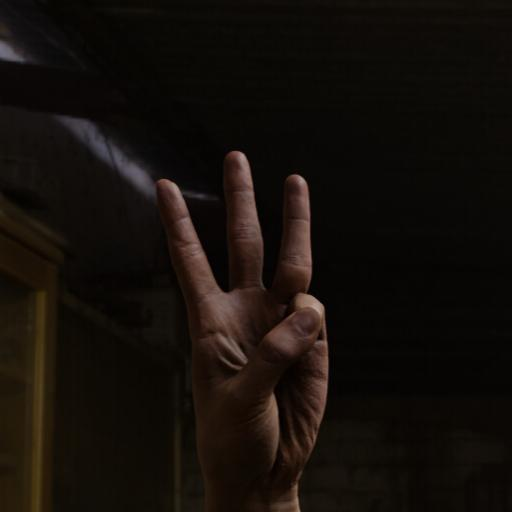W: (143, 140, 350, 504)
